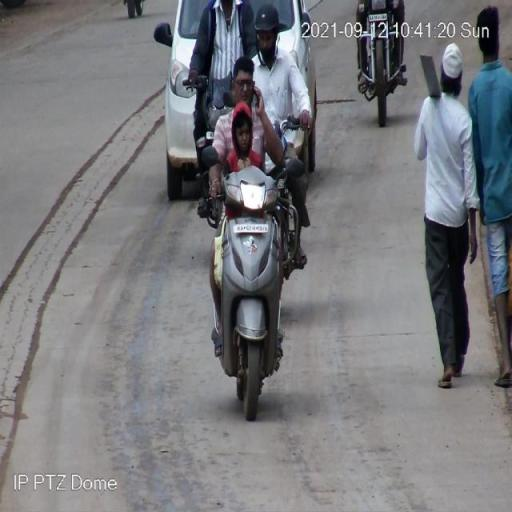using mobile: (252, 76, 266, 120)
